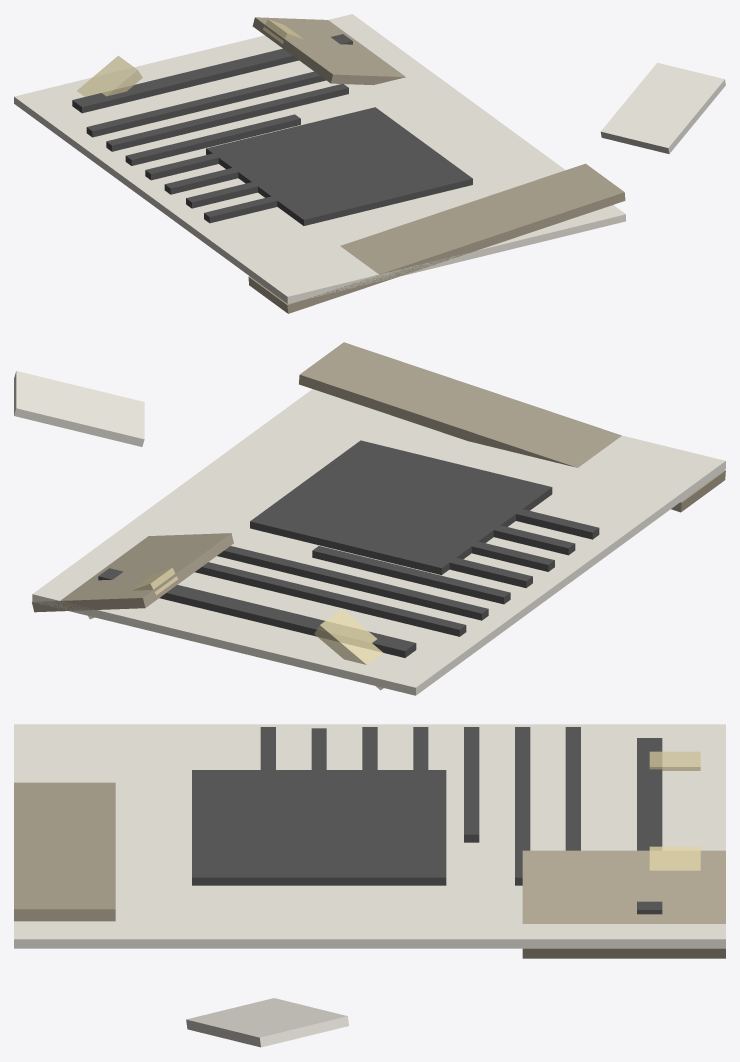
The model's file is poster_torn.glb.
The picture shows the model from 3 angles, top to bottom: view 1: azimuth 30°, elevation 25°; view 2: azimuth 150°, elevation 25°; view 3: azimuth 270°, elevation 25°; orthographic projection. The views are drawn at different scales.
Parts seen in each view (by area): view 1: paper_main, photo_border, torn_bottom, torn_bit, torn_corner, text_top, text_l_2, text_l_1, text_l_3, text_l_6, tape_tl, text_l_4 (+2 smaller); view 2: paper_main, photo_border, torn_bottom, torn_corner, torn_bit, text_top, text_l_1, text_l_2, text_l_3, text_l_4, tape_tl, text_l_6 (+3 smaller); view 3: paper_main, photo_border, torn_corner, torn_bottom, torn_bit, text_top, text_l_2, text_l_4, text_l_1, text_l_6, text_l_3, text_l_5 (+3 smaller).
Part boxes in pixels (x1,y1,x2,y2): paper_main: [14, 14, 625, 303]; photo_border: [206, 107, 472, 225]; torn_bottom: [248, 163, 625, 313]; torn_bit: [600, 62, 725, 153]; torn_corner: [252, 17, 405, 85]; text_top: [72, 34, 352, 113]; text_l_2: [106, 84, 348, 151]; text_l_1: [86, 71, 325, 137]; text_l_3: [125, 114, 300, 165]; text_l_6: [186, 144, 410, 208]; tape_tl: [77, 55, 142, 96]; text_l_4: [145, 120, 353, 180]; paper_main: [32, 389, 725, 695]; photo_border: [250, 440, 552, 575]; torn_bottom: [299, 342, 725, 512]; torn_corner: [32, 533, 233, 612]; torn_bit: [14, 371, 144, 446]; text_top: [98, 568, 416, 657]; text_l_1: [195, 562, 466, 636]; text_l_2: [217, 546, 488, 620]; text_l_3: [312, 546, 510, 604]; text_l_4: [296, 520, 532, 587]; tape_tl: [314, 609, 383, 690]; text_l_6: [343, 492, 575, 555]; paper_main: [14, 724, 725, 948]; photo_border: [192, 770, 446, 885]; torn_corner: [522, 850, 725, 958]; torn_bottom: [14, 782, 115, 921]; torn_bit: [186, 998, 348, 1047]; text_top: [637, 738, 662, 914]; text_l_2: [515, 727, 530, 885]; text_l_4: [413, 727, 428, 855]; text_l_1: [565, 727, 580, 850]; text_l_6: [311, 728, 326, 866]; text_l_3: [464, 727, 479, 842]; text_l_5: [362, 727, 377, 812].
Bounding box in the file's own units: 1.58 × 0.126 × 1.4.
